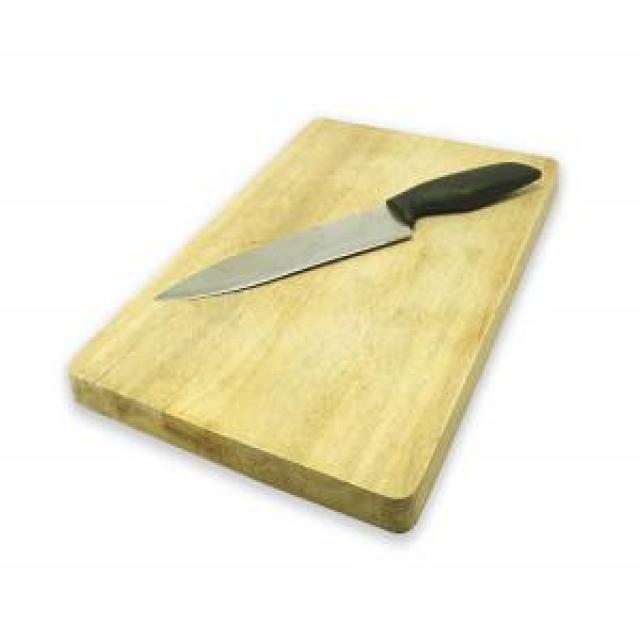knife: (152, 162, 545, 305)
